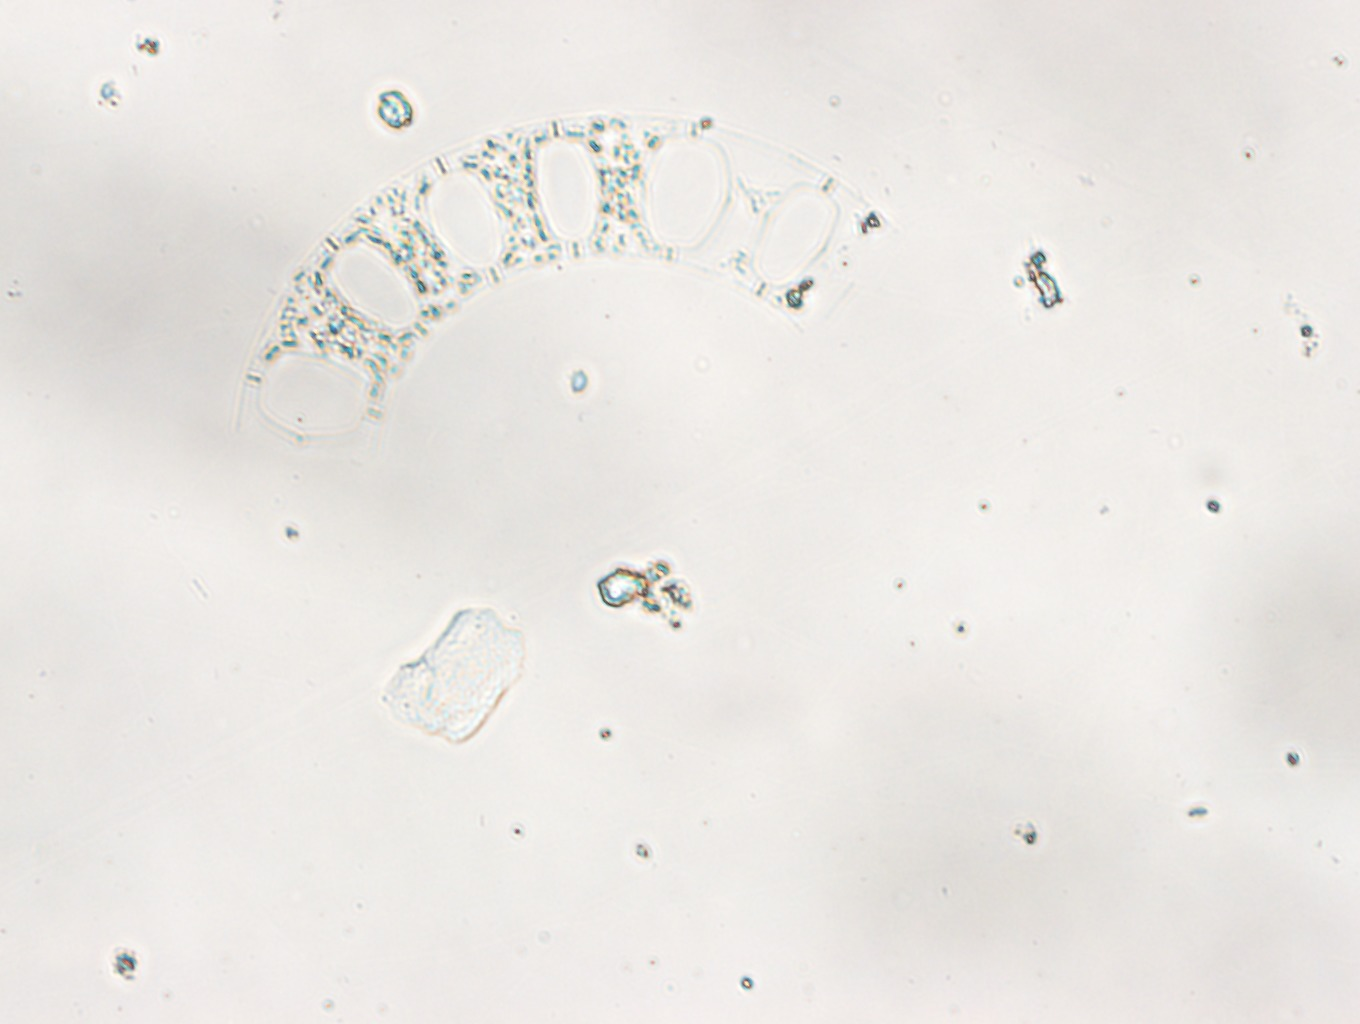eucampia: (237, 110, 902, 450)
